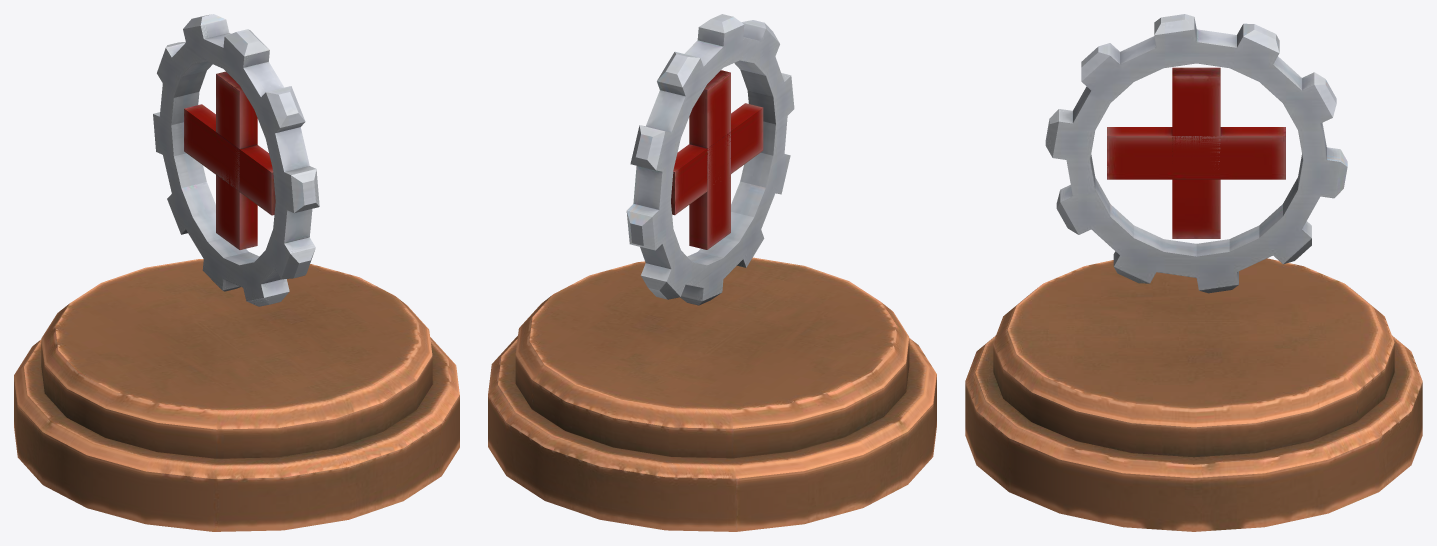
Rendered from CRUZBRONZE.fbx.
3 views of the same model, side by side, from view 1: azimuth 30°, elevation 25°; view 2: azimuth 150°, elevation 25°; view 3: azimuth 270°, elevation 25° (orthographic). The views are drawn at different scales.
Parts seen in each view (by area): view 1: polySurface31, polySurface34; view 2: polySurface31, polySurface34; view 3: polySurface31, polySurface34.
Boxes of the visible parts, left/top/right/bottom form: polySurface31: left=14, top=259, right=459, bottom=531; polySurface34: left=153, top=14, right=319, bottom=306; polySurface31: left=488, top=257, right=936, bottom=531; polySurface34: left=626, top=14, right=794, bottom=305; polySurface31: left=965, top=258, right=1422, bottom=531; polySurface34: left=1045, top=14, right=1347, bottom=293.
Size of the model in its own units: 0.4773 by 0.4821 by 0.4773.
1 material, 1 textured.
